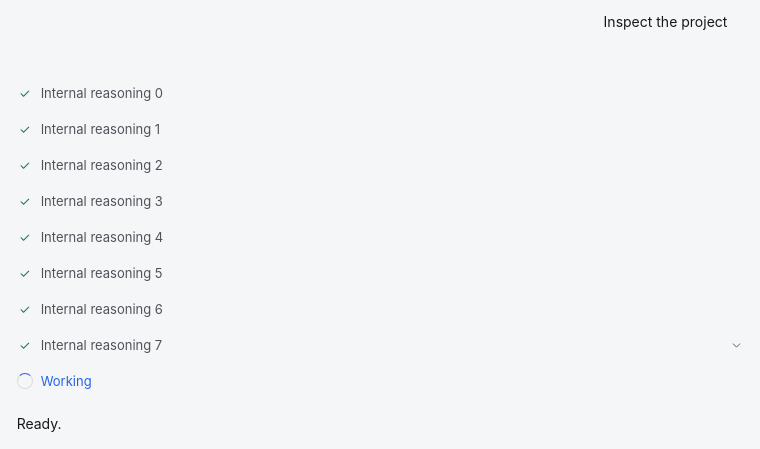
it: product conversation › MCX-033 shows safe round summaries but keeps native metadata out of activity names
Expected: the button with test id "inference-round" reads "Working", [17,365,743,397]
Click the button with test id "inference-round" showing "✓ Internal reasoning 7". click: [101, 345]
box: [17,329,743,361]
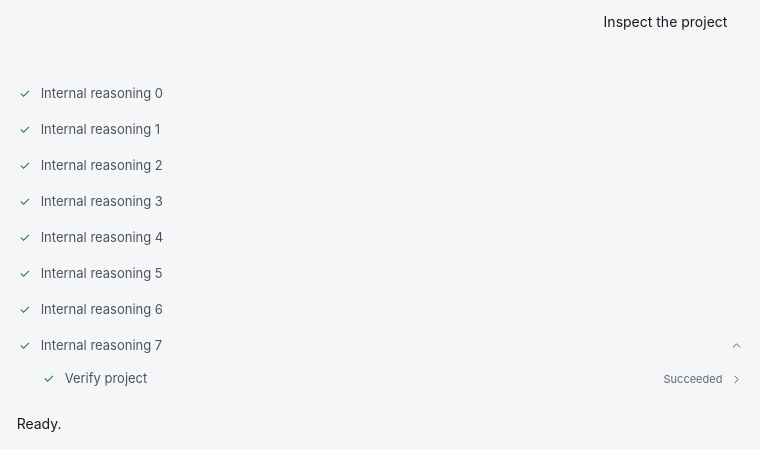
Expected: the text "Internal reasoning 0" is shown, [41,85,163,101]
Result: the button "✓ Verify project Succeeded" is shown at [41,361,743,397]
